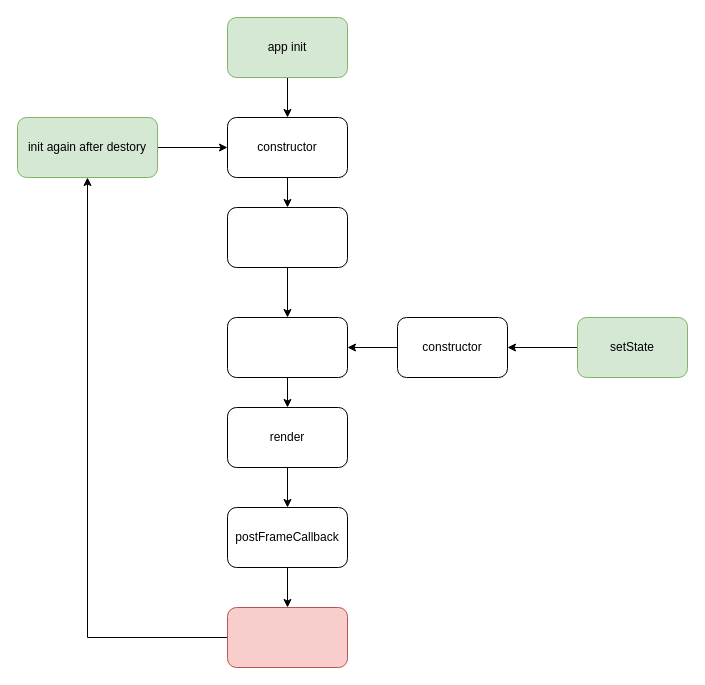
Some shapes in this 705 by 685 pixel diagram are drawn without their labels. Each missing label, with the centre of its shape:
build: pixel 287 347
createElement: pixel 287 237
destory: pixel 287 637
